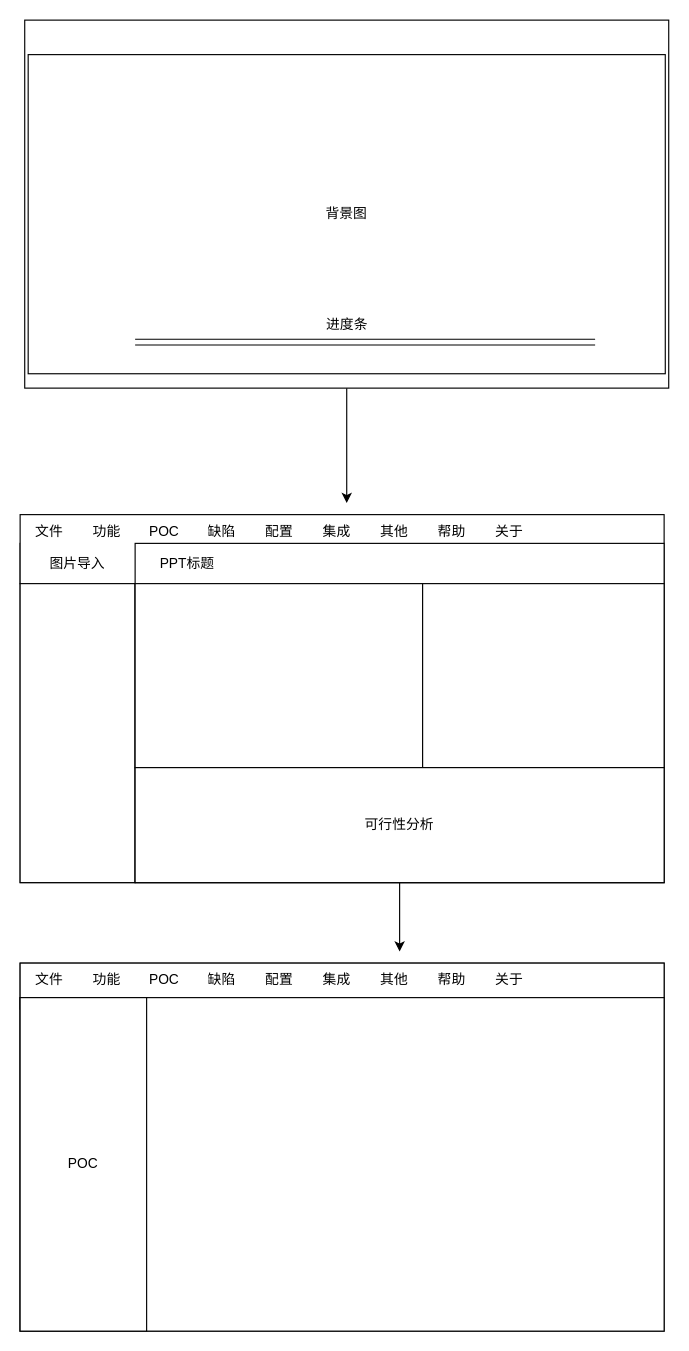
This 689x1351 diagram has some shape labels left out. Each missing label, with the centre of its shape:
原图展示: (278,675)
细节放大: (542,675)
